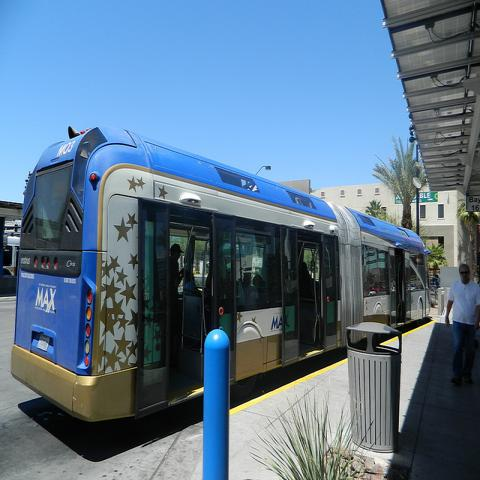bus: (7, 126, 432, 421)
